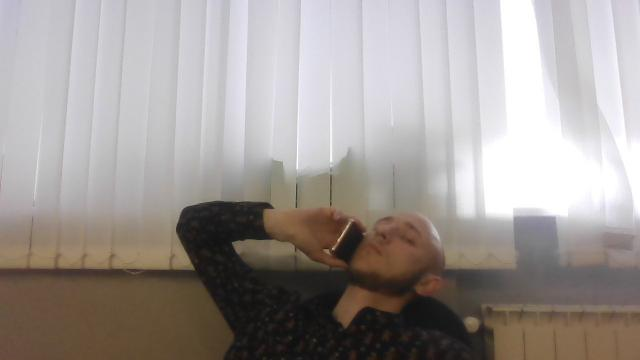Phone: (328, 218, 364, 264)
